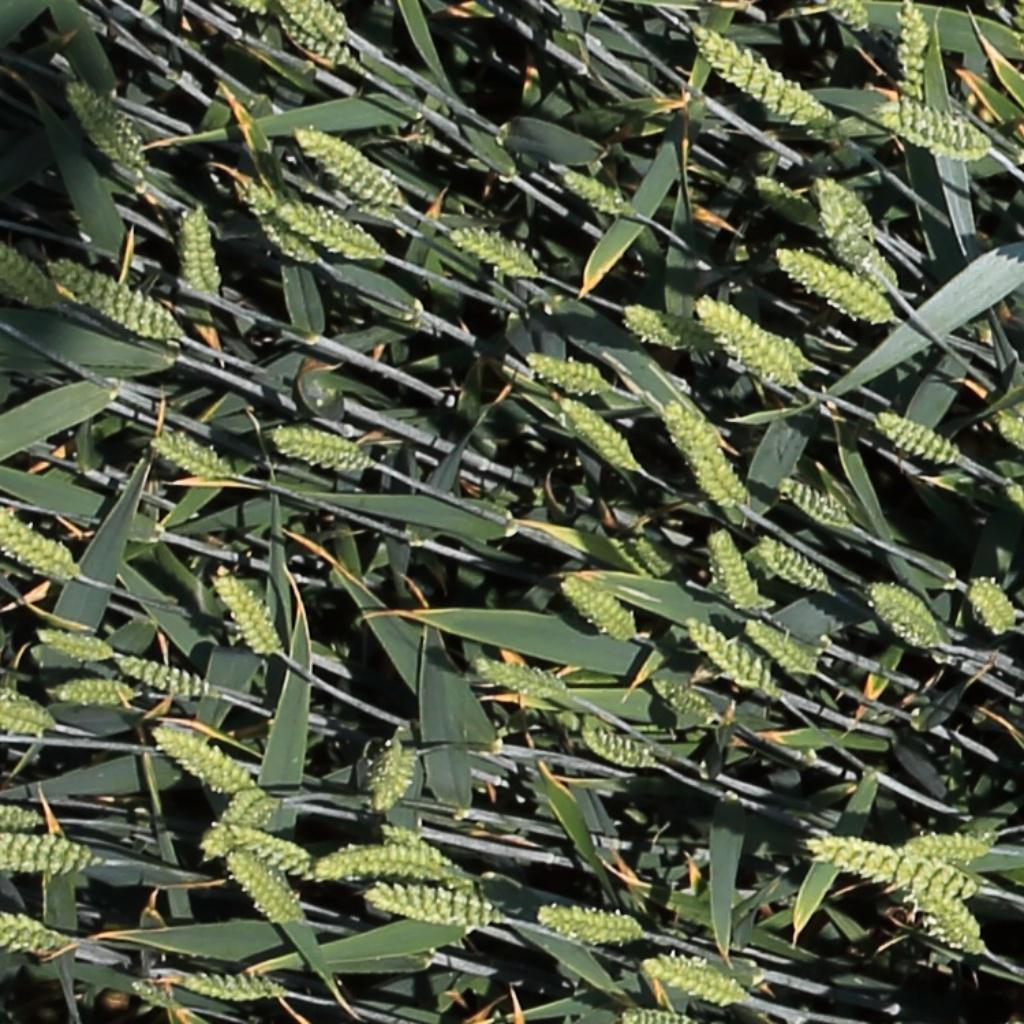0-0: (682, 21, 838, 137), (150, 730, 287, 861), (806, 834, 981, 905), (49, 256, 177, 339), (660, 397, 749, 507), (696, 297, 797, 383), (775, 248, 891, 322), (294, 126, 397, 203), (699, 295, 807, 366), (815, 195, 898, 286), (317, 842, 470, 889), (236, 181, 319, 266), (208, 566, 281, 662), (62, 79, 141, 166), (682, 618, 774, 692), (860, 576, 945, 655), (555, 393, 637, 472), (875, 99, 991, 154), (222, 850, 299, 928), (559, 574, 642, 645), (704, 525, 763, 615), (278, 202, 378, 255), (360, 888, 498, 925), (0, 509, 75, 577), (370, 824, 461, 879), (535, 904, 645, 949), (644, 955, 745, 1004), (446, 225, 539, 277), (111, 655, 214, 701), (910, 884, 981, 950), (873, 410, 958, 464), (173, 969, 286, 1008), (218, 831, 311, 877), (813, 172, 877, 237), (757, 537, 831, 593), (0, 238, 60, 307), (274, 13, 349, 68), (365, 742, 417, 821), (268, 428, 368, 469), (744, 619, 815, 675), (775, 476, 850, 528), (178, 199, 217, 297), (147, 434, 230, 480), (472, 660, 567, 699), (0, 833, 95, 872), (905, 823, 993, 862), (0, 914, 71, 961), (2, 535, 70, 584), (0, 689, 65, 740), (554, 163, 623, 211), (50, 672, 134, 711), (357, 738, 405, 806), (522, 352, 604, 390), (581, 729, 656, 770), (965, 576, 1015, 637), (897, 1, 925, 106), (649, 678, 714, 722), (625, 531, 675, 584), (619, 304, 678, 348), (281, 0, 345, 40), (32, 629, 114, 660), (124, 977, 173, 1010), (995, 413, 1024, 454), (828, 1, 869, 30), (0, 805, 42, 830), (1004, 484, 1024, 527)
